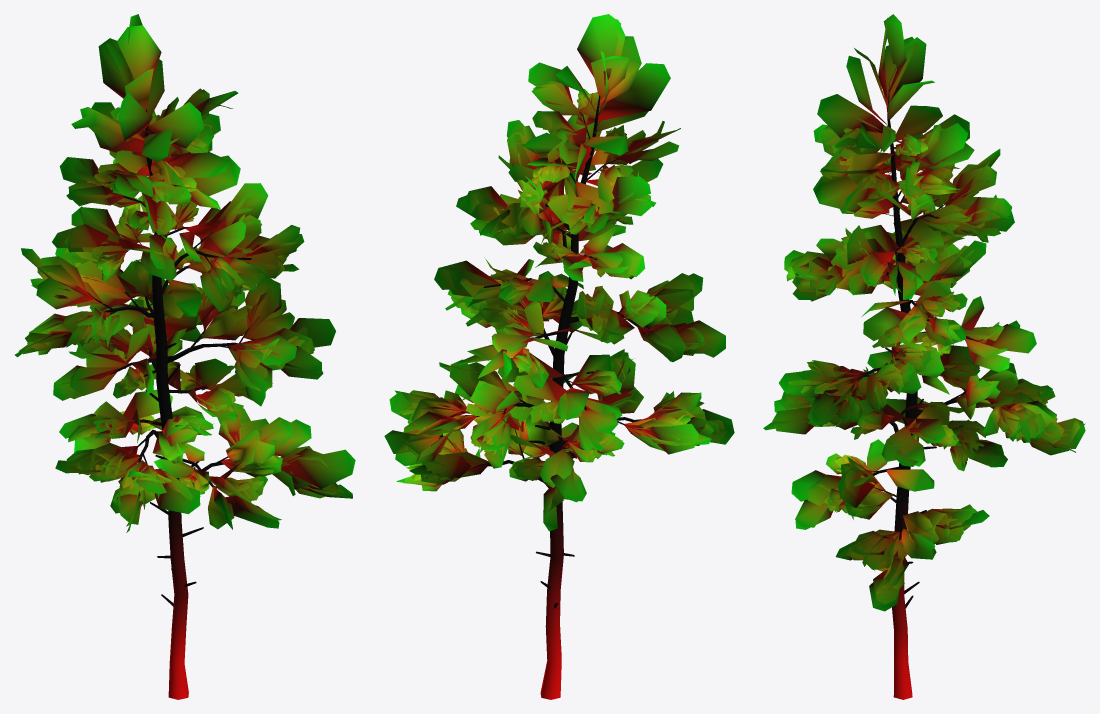
The model's file is Pine_3_LOD_1.fbx.
3 renders of one model, left to right at view 1: azimuth 30°, elevation 25°; view 2: azimuth 150°, elevation 25°; view 3: azimuth 270°, elevation 25°, orthographic. The views are drawn at different scales.
Parts seen in each view (by area): view 1: Pine_3_LOD_1; view 2: Pine_3_LOD_1; view 3: Pine_3_LOD_1.
Part boxes in pixels (x1,y1,x2,y2): Pine_3_LOD_1: [15, 14, 355, 699]; Pine_3_LOD_1: [384, 14, 734, 699]; Pine_3_LOD_1: [763, 14, 1085, 699].
Size of the model in its own units: 10 by 19.85 by 8.84.
